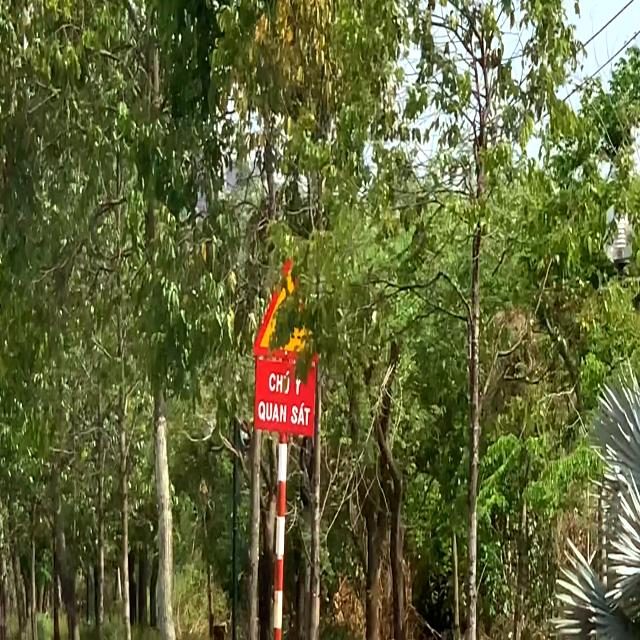W.224: (253, 255, 323, 362)
